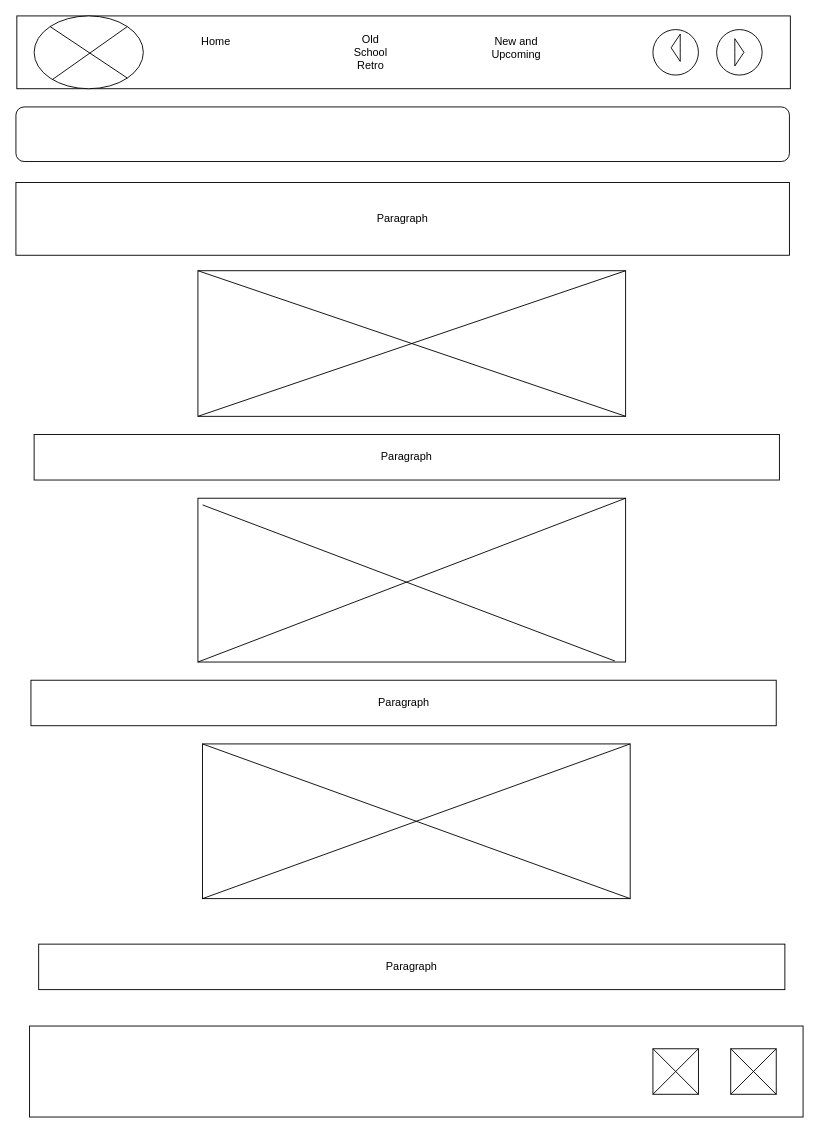
This 819x1133 diagram has some shape labels left out. Here are the shapes that lost their labels. From the top down, the box of each, then its label:
(15, 106, 789, 162): h1
(29, 1025, 803, 1117): Game Reviver @ Deon Johannes Siteplan
